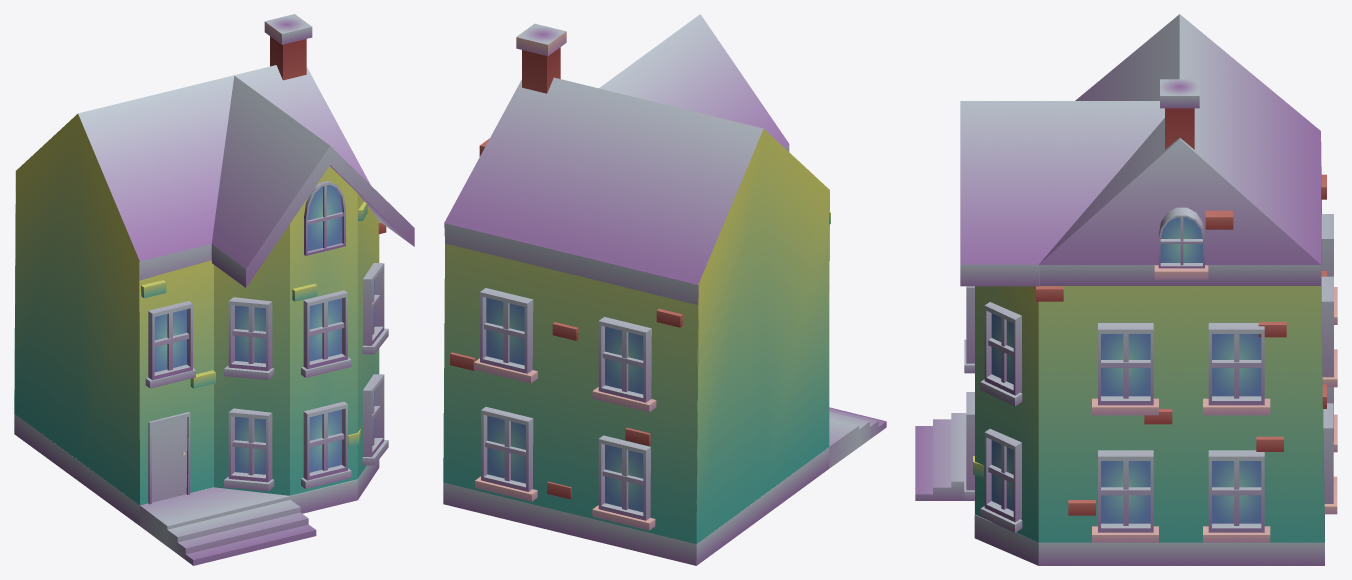
Rendered from SM_House_R_Short_01.fbx.
3 views of the same model, side by side, from view 1: azimuth 30°, elevation 25°; view 2: azimuth 150°, elevation 25°; view 3: azimuth 270°, elevation 25° (orthographic). The views are drawn at different scales.
Visible parts, largest first — view 1: SM_House_R_Short_01; view 2: SM_House_R_Short_01; view 3: SM_House_R_Short_01.
Part boxes in pixels (bbox=[...]): SM_House_R_Short_01: bbox=[14, 14, 414, 565]; SM_House_R_Short_01: bbox=[443, 14, 886, 565]; SM_House_R_Short_01: bbox=[915, 14, 1337, 565].
Size of the model in its own units: 7.24 by 9.08 by 10.97.
